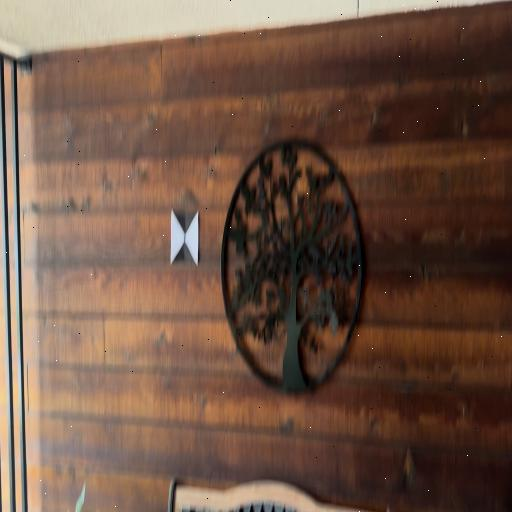target: (171, 210, 199, 264)
